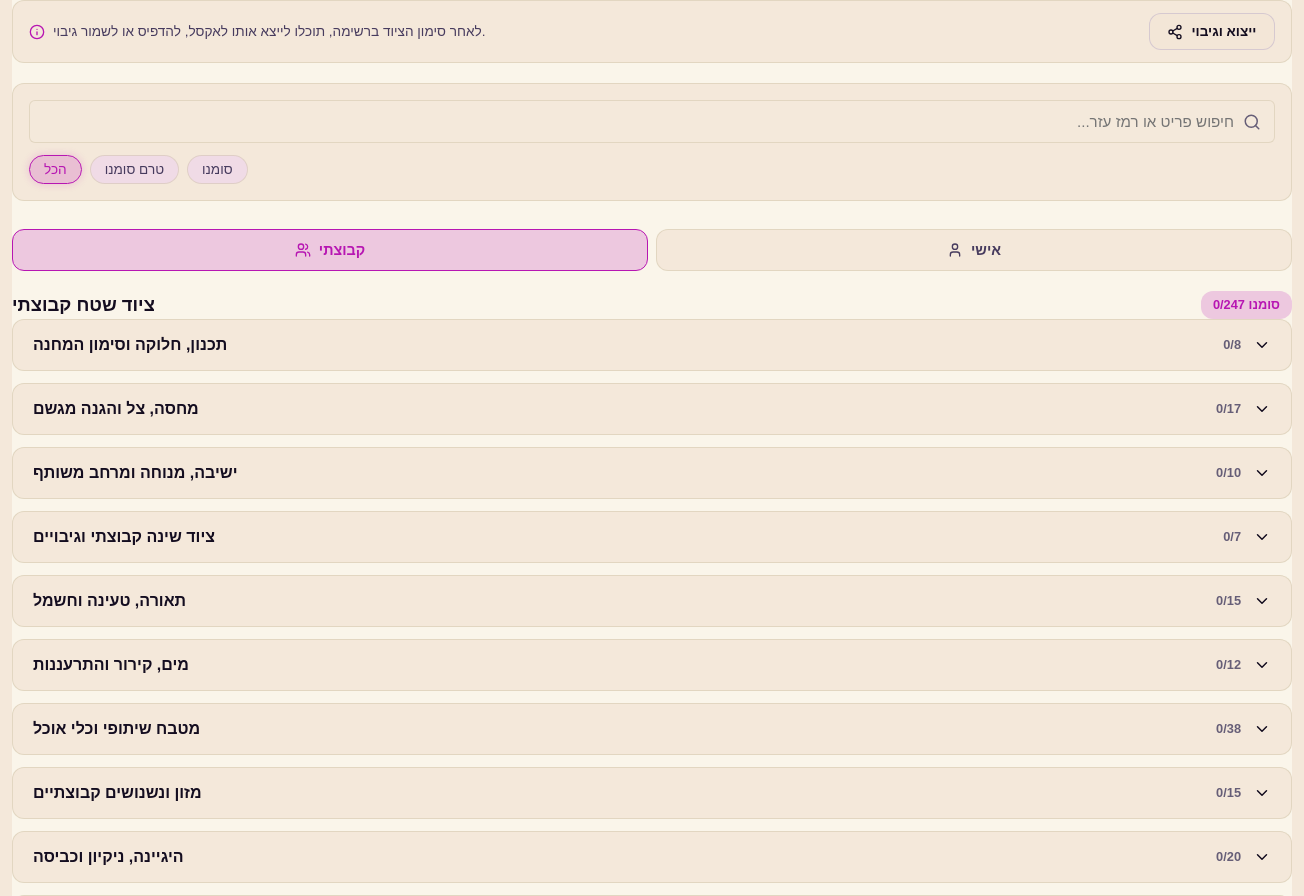
it: EquipmentChecklist › switches to the personal section
This screenshot has width=1304, height=896.
Click the button with test id "equipment-section-toggle-personal": (974, 250) left=656, top=229, right=1292, bottom=271
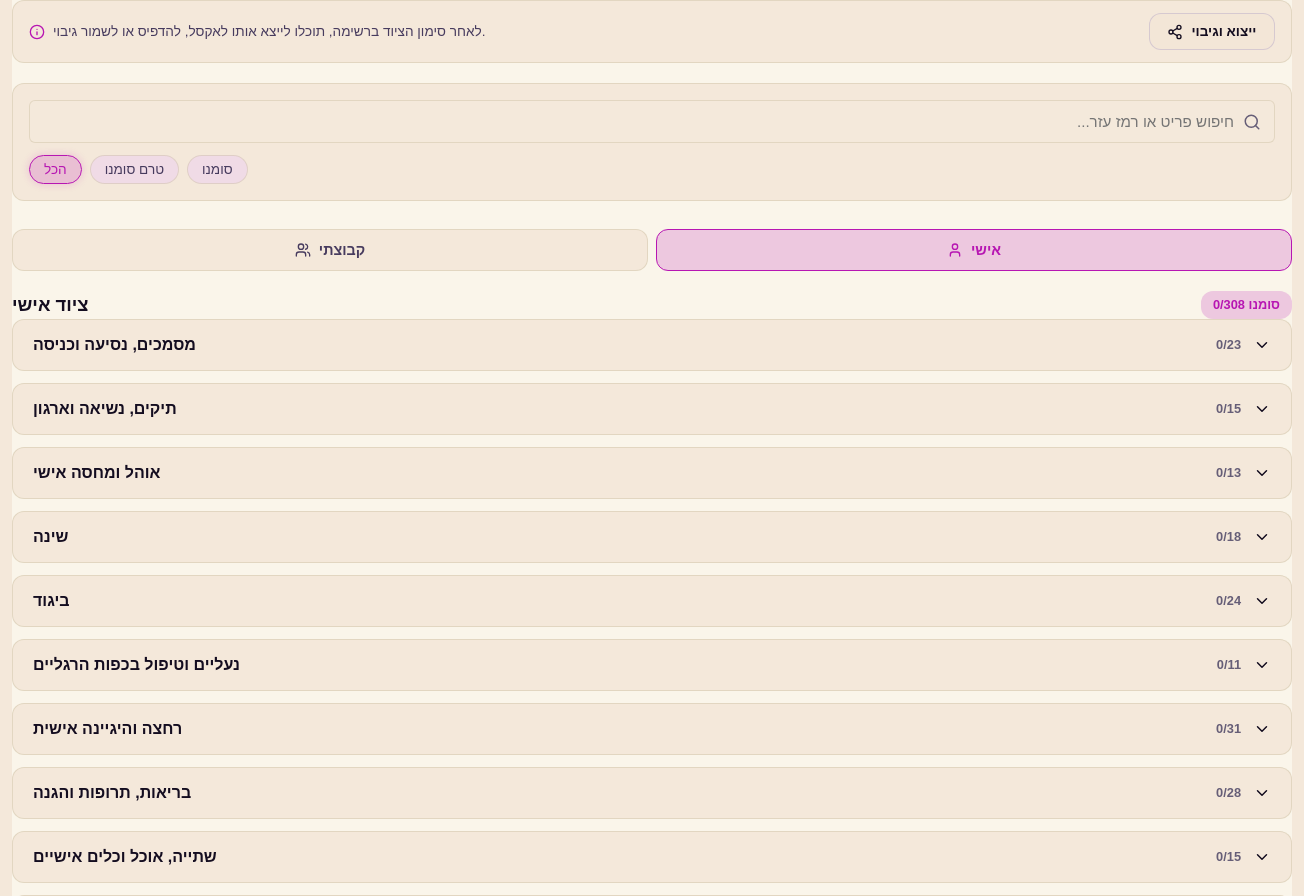
Expected: the text "שינה" is shown, left=33, top=528, right=68, bottom=546
Now the heading "ציוד אישי" is shown, box left=12, top=291, right=89, bottom=319
